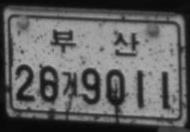0: (105, 67, 126, 106)
1: (155, 70, 175, 109), (131, 69, 149, 109)
2: (15, 62, 35, 102)
6: (38, 64, 59, 102)
9: (80, 66, 101, 105)
거: (60, 70, 77, 96)
부산_D: (49, 28, 139, 57)
